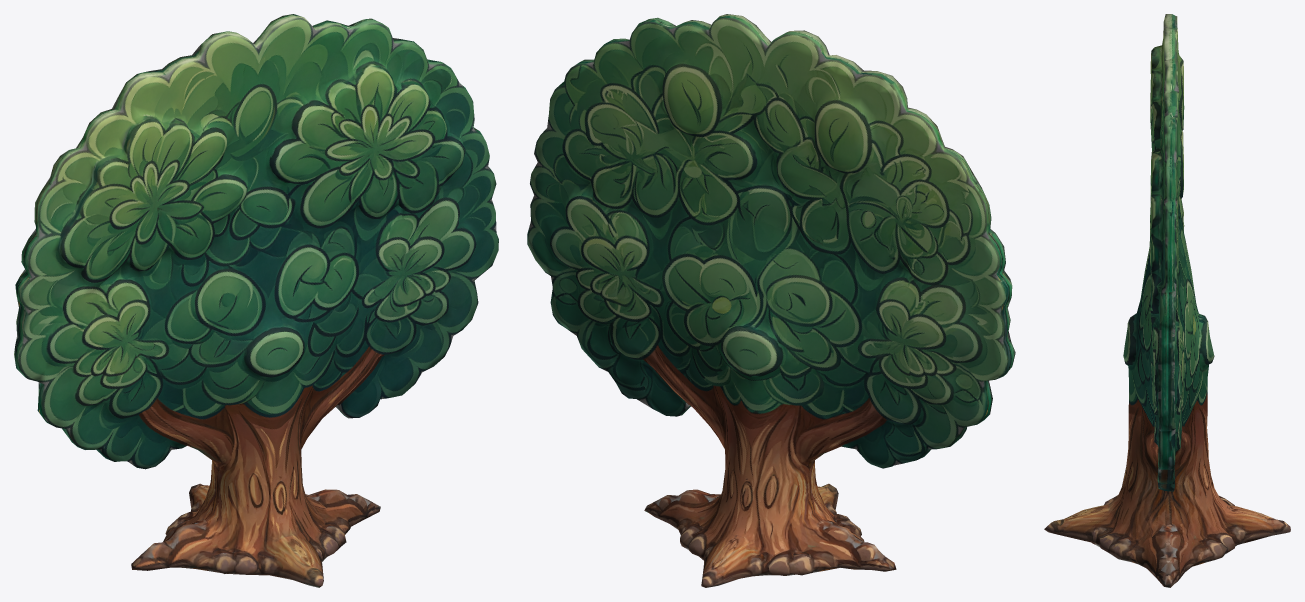
The picture shows the model from 3 angles, left to right: view 1: azimuth 30°, elevation 25°; view 2: azimuth 150°, elevation 25°; view 3: azimuth 270°, elevation 25°; orthographic projection. The views are drawn at different scales.
Parts seen in each view (by area): view 1: texture_mapping; view 2: texture_mapping; view 3: texture_mapping.
Boxes of the visible parts, left/top/right/bottom form: texture_mapping: left=14, top=14, right=498, bottom=587; texture_mapping: left=527, top=14, right=1015, bottom=587; texture_mapping: left=1044, top=14, right=1290, bottom=587.
Size of the model in its own units: 0.9734 by 1 by 0.4589.
1 material, 1 textured.
